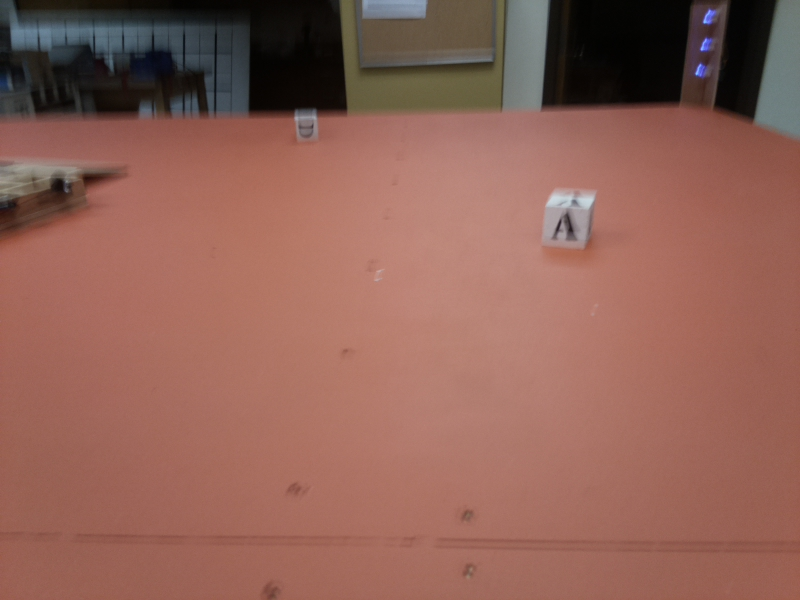blockA: (537, 189, 598, 258)
blockD: (292, 110, 320, 144)
corner: (675, 2, 729, 114)
side: (1, 180, 92, 236)
slope: (84, 141, 130, 184), (4, 154, 93, 174)
